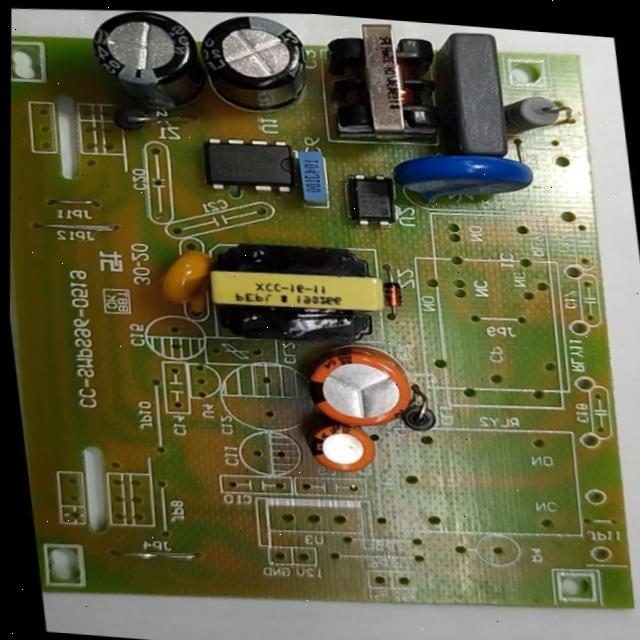Cap1: (294, 337, 441, 440)
Cap2: (306, 416, 396, 484)
Cap3: (186, 8, 320, 125)
Cap4: (76, 3, 224, 135)
MOSFET: (181, 125, 313, 203)
Mov: (370, 133, 548, 227)
Resistor: (498, 87, 578, 146)
Transformer: (183, 226, 408, 355), (304, 14, 463, 152)
